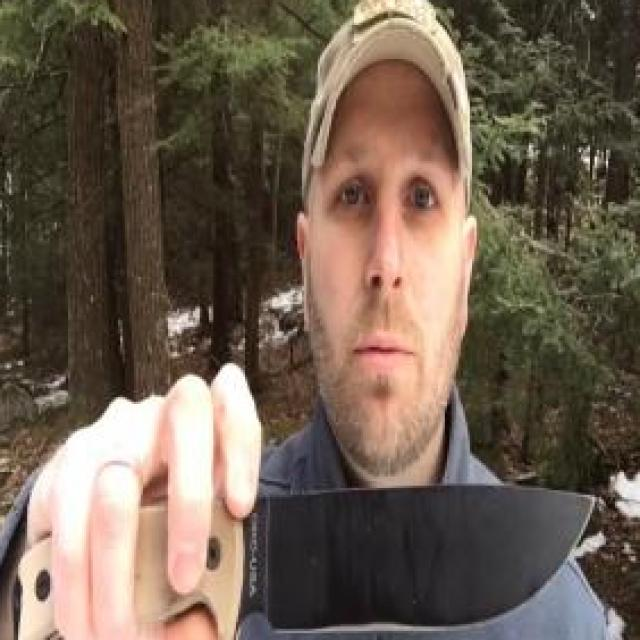knife: (91, 352, 604, 640)
